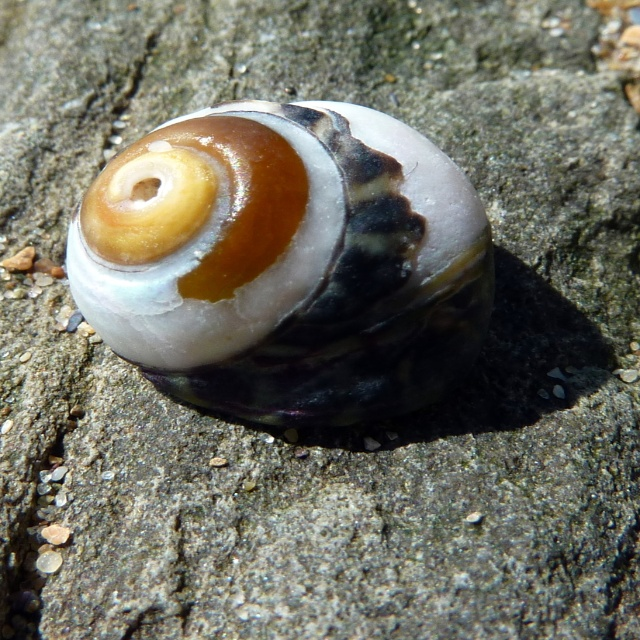Snail: (58, 85, 519, 433)
